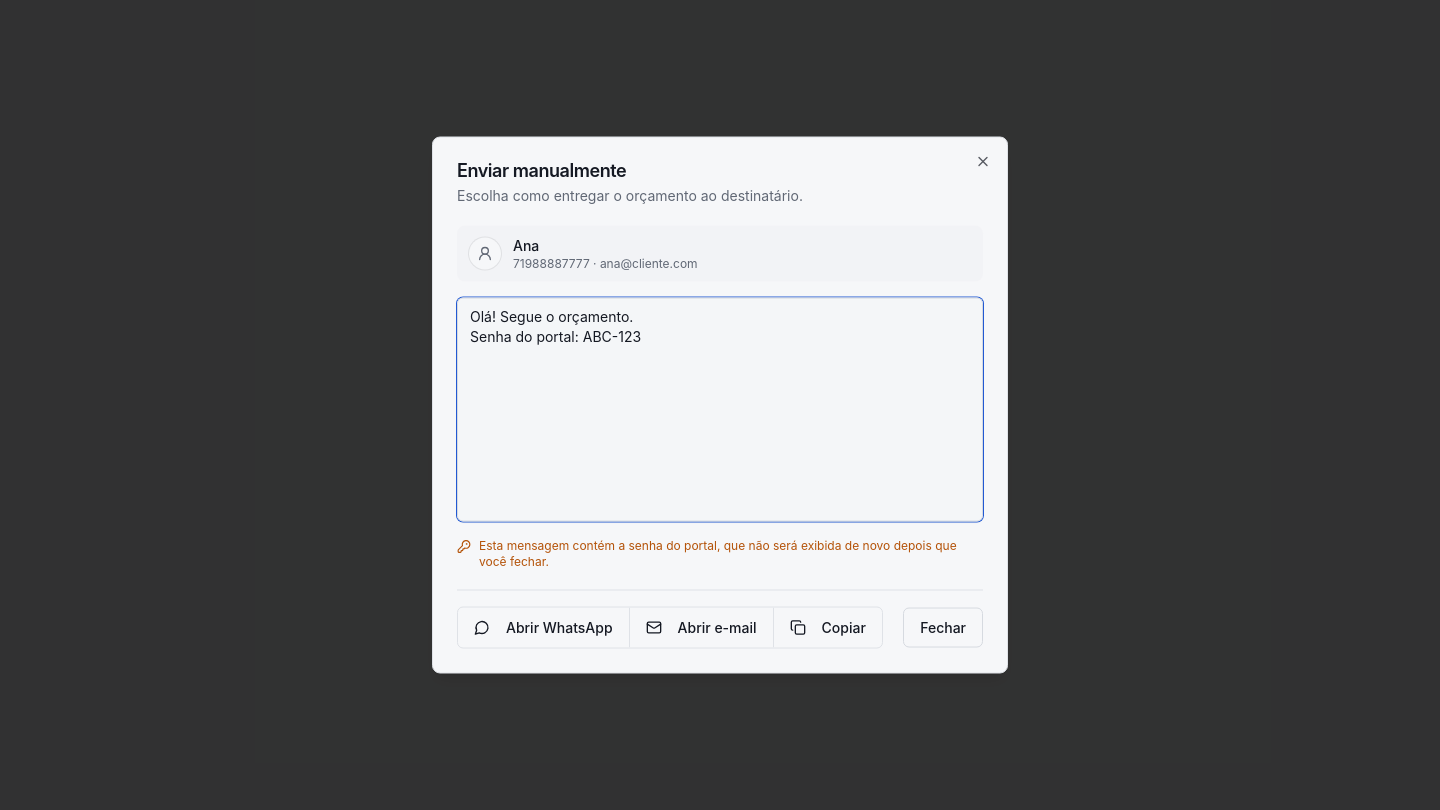
Test: EnvioManualOrcamentoDialog › Voltar mantém o diálogo aberto e não fecha
Click the button "Fechar" at [943, 628], box top-left (903, 608), bottom-right (983, 648)
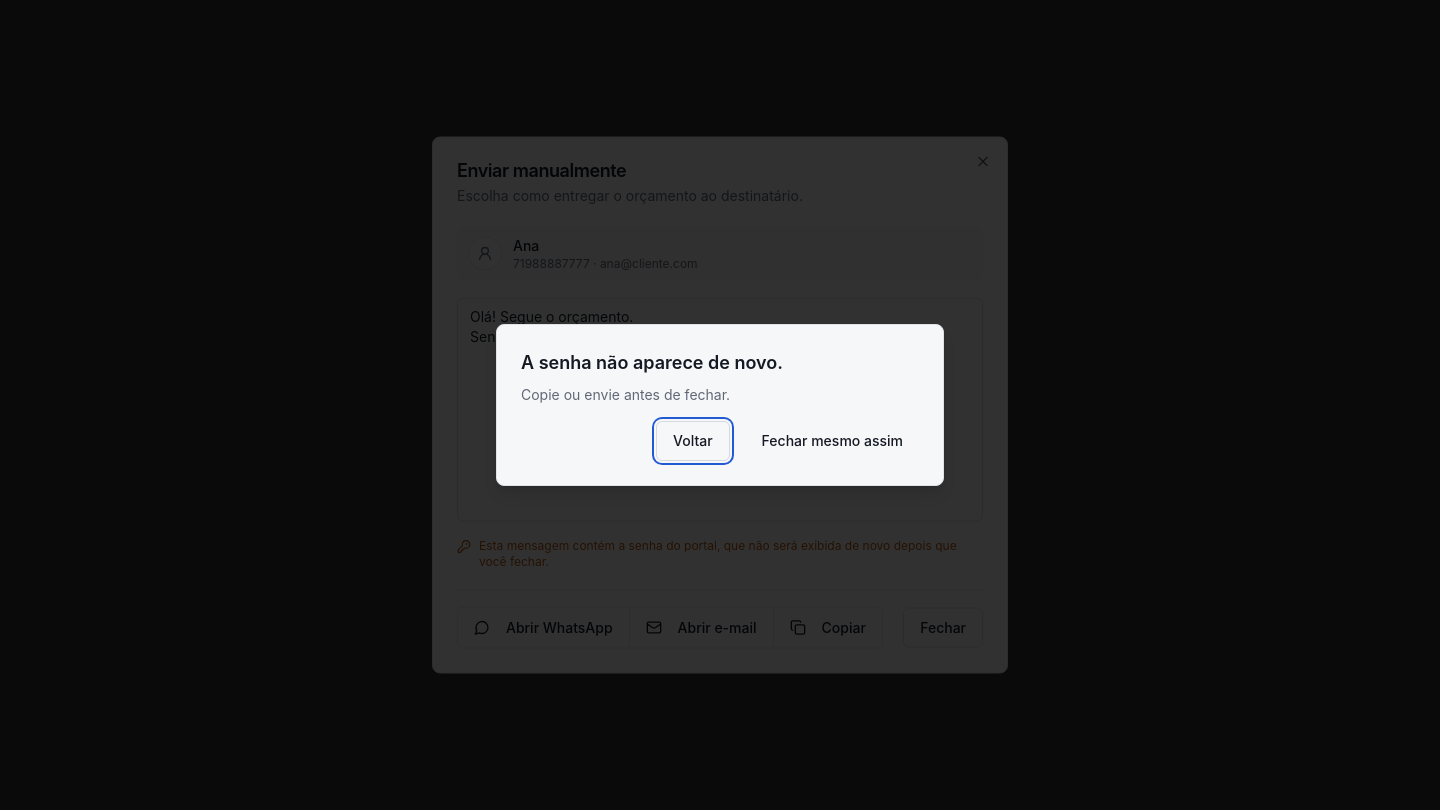
Click the button "Voltar" at [693, 441], box top-left (656, 421), bottom-right (730, 461)
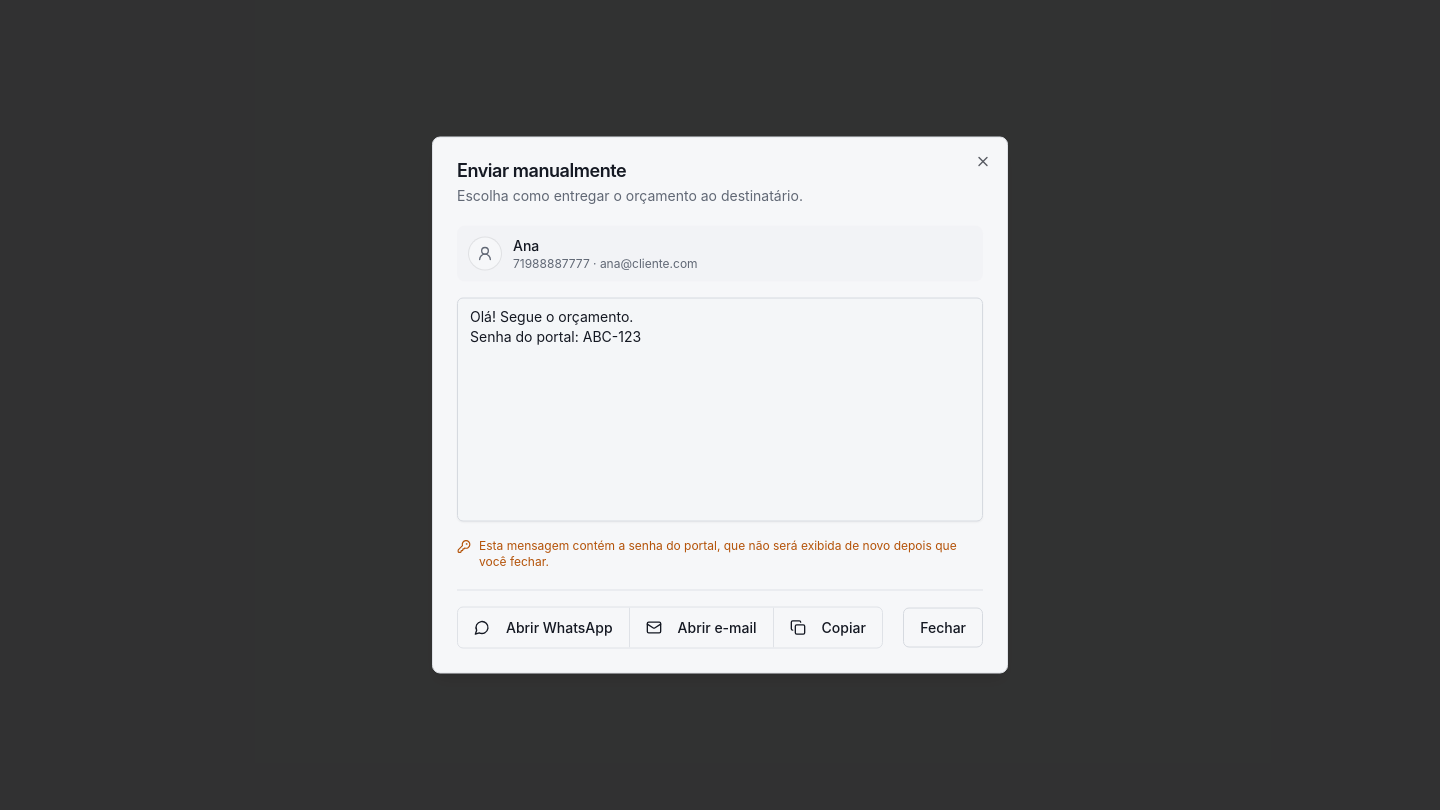
expect the button "Copiar" is shown: met, box top-left (772, 608), bottom-right (882, 648)
expect the heading "A senha não aparece de novo." is gone: met
